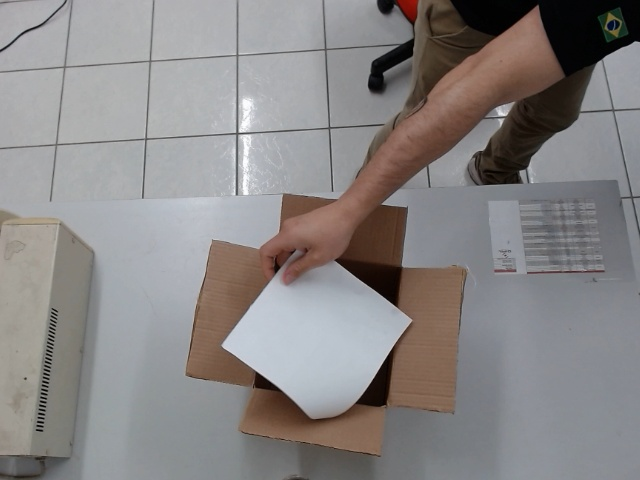divisor: (218, 240, 415, 421)
